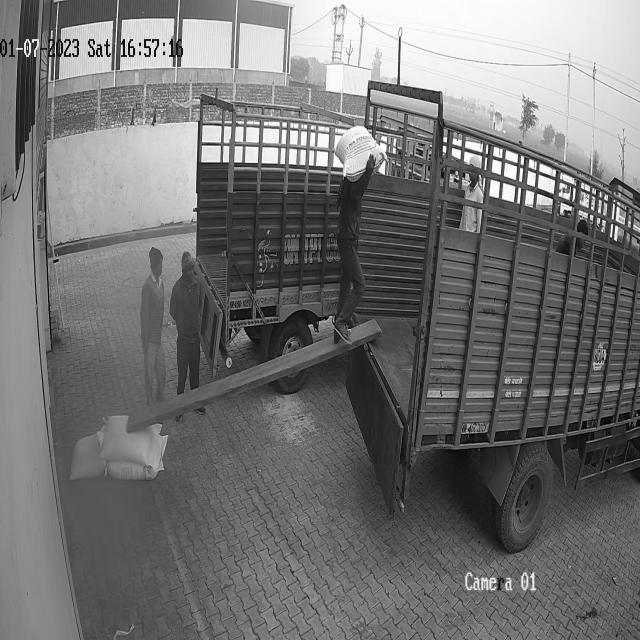sack: (99, 414, 161, 462), (104, 435, 168, 478), (336, 124, 387, 177), (67, 428, 108, 479)
